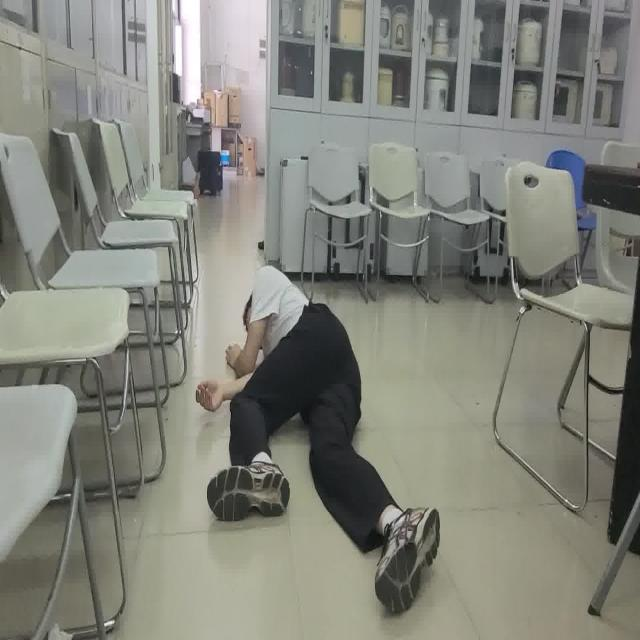Fall-Detected: (193, 264, 441, 621)
